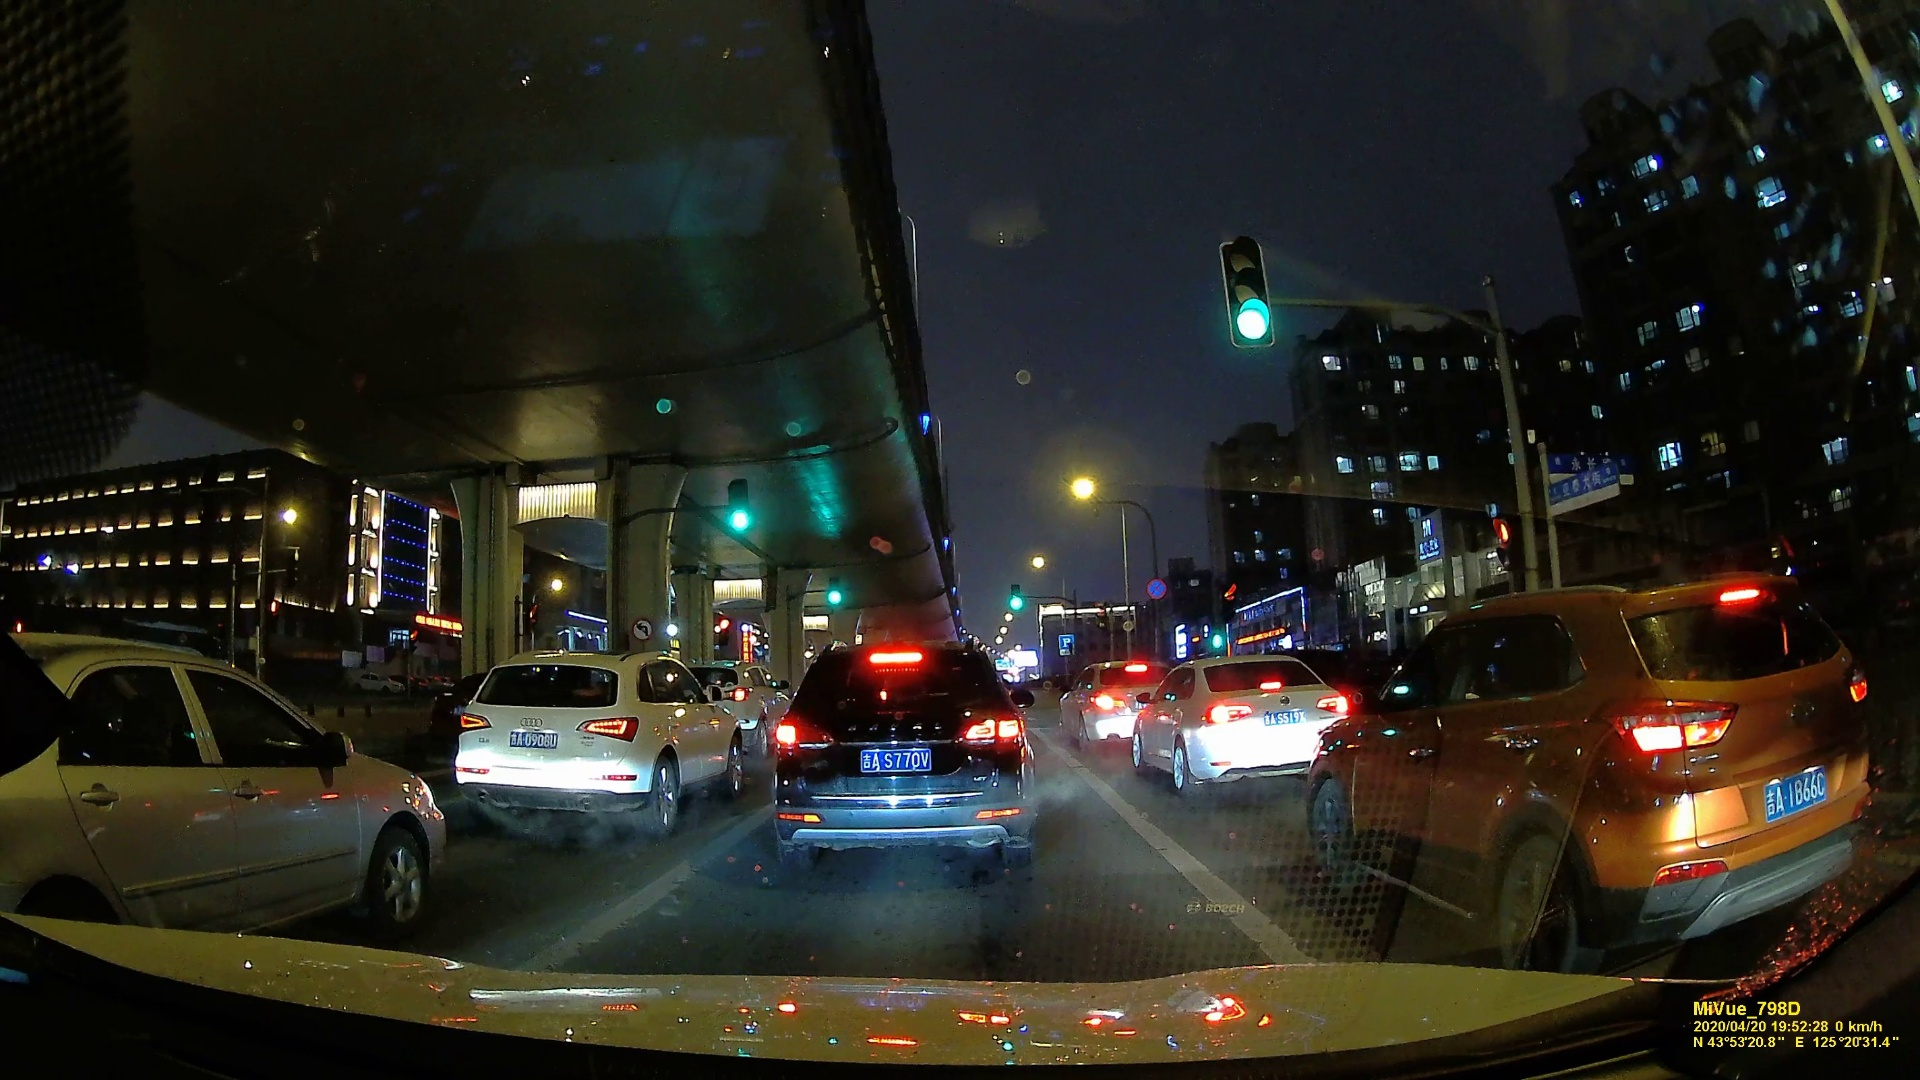traffic_sign: (1222, 233, 1282, 356), (1542, 468, 1627, 509), (1487, 512, 1524, 575), (729, 477, 753, 535), (1145, 575, 1168, 601), (828, 576, 845, 607), (1007, 583, 1025, 612), (632, 618, 653, 641), (1058, 634, 1077, 657)
vehicle: (1342, 554, 1871, 978), (3, 632, 444, 936), (767, 646, 1030, 876), (448, 647, 765, 831), (1131, 650, 1352, 798), (1064, 663, 1150, 748)
